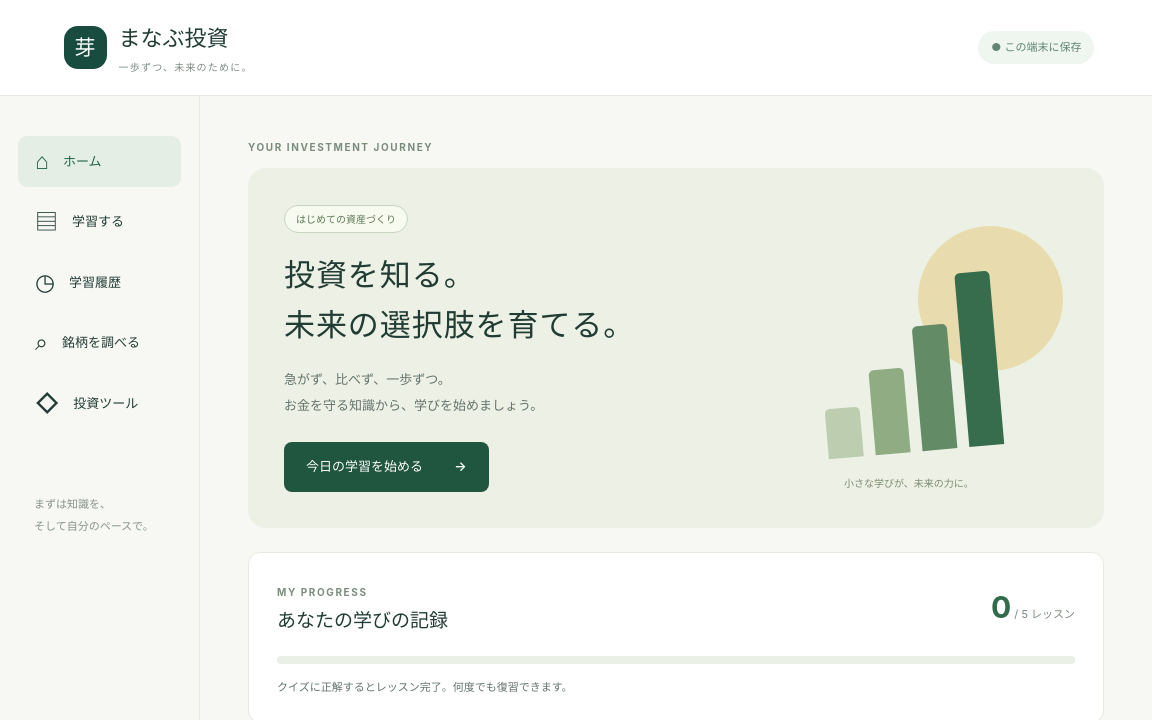
Test: 学習フロー › 保存失敗時は完了扱いにせず、エラーを表示して再試行できる
The image size is (1152, 720).
Click the button "今日の学習を始める →": [386, 467] box [284,442,489,492]
(page scrolled)
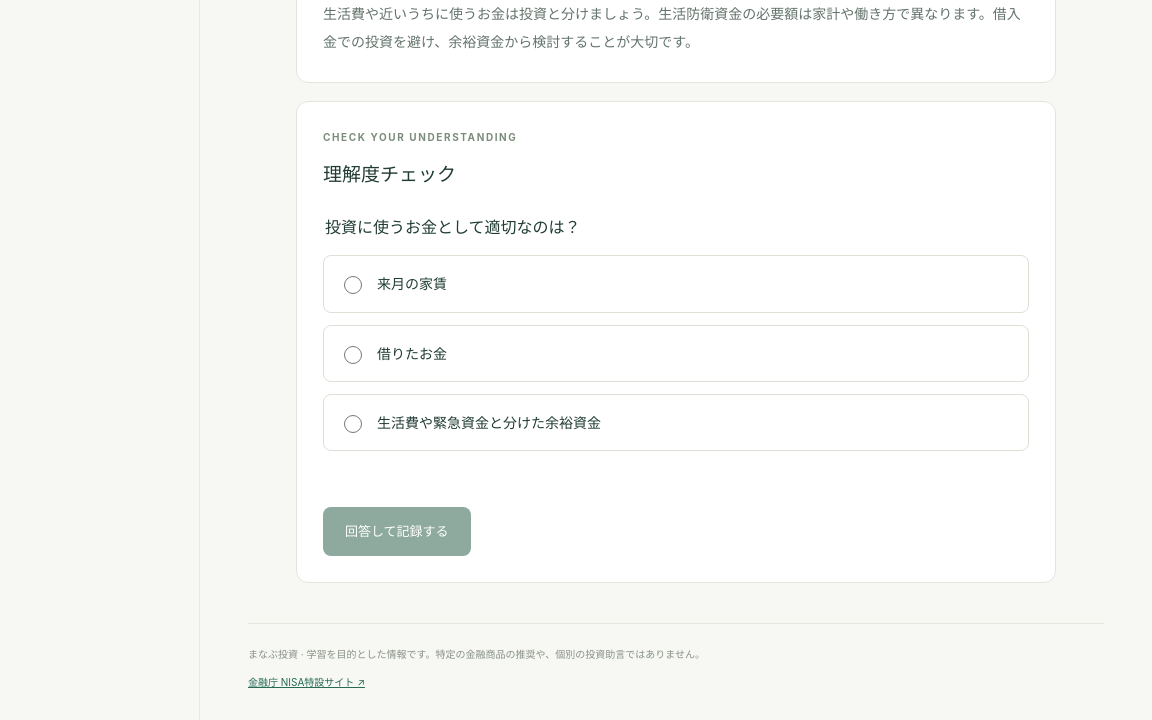
Click the radio button labelled "生活費や緊急資金と分けた余裕資金": [353, 424] box [344,415,362,433]
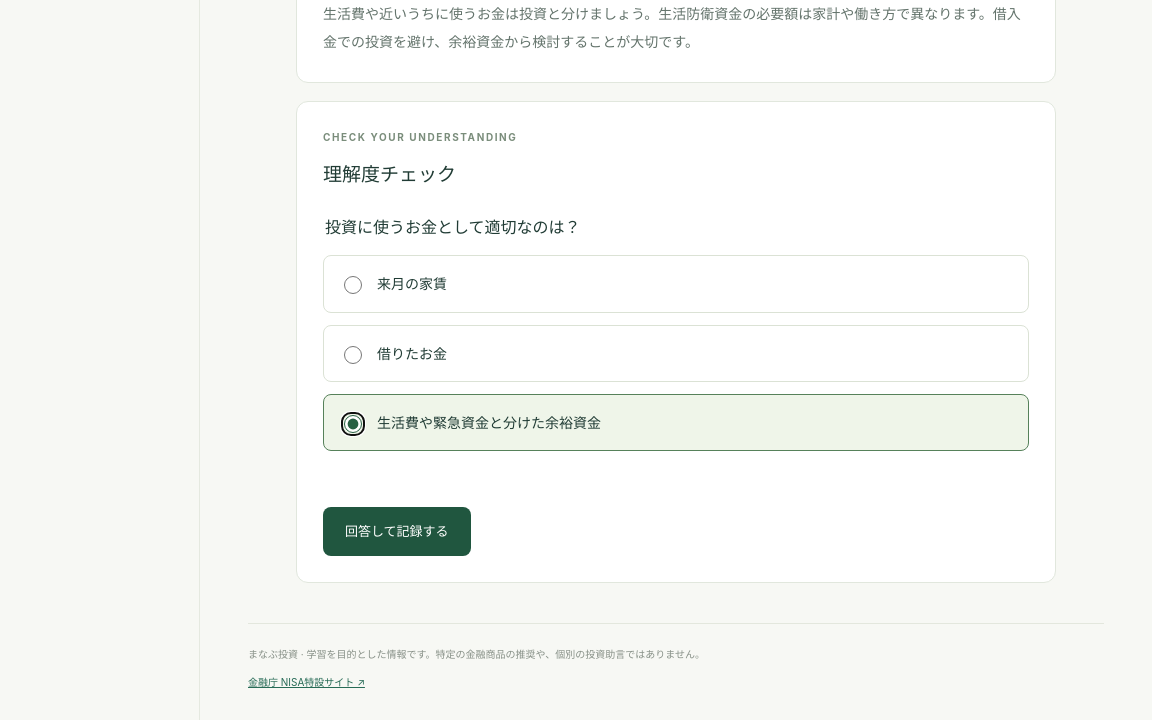
Click the button "回答して記録する": [397, 532] box [323,507,471,556]
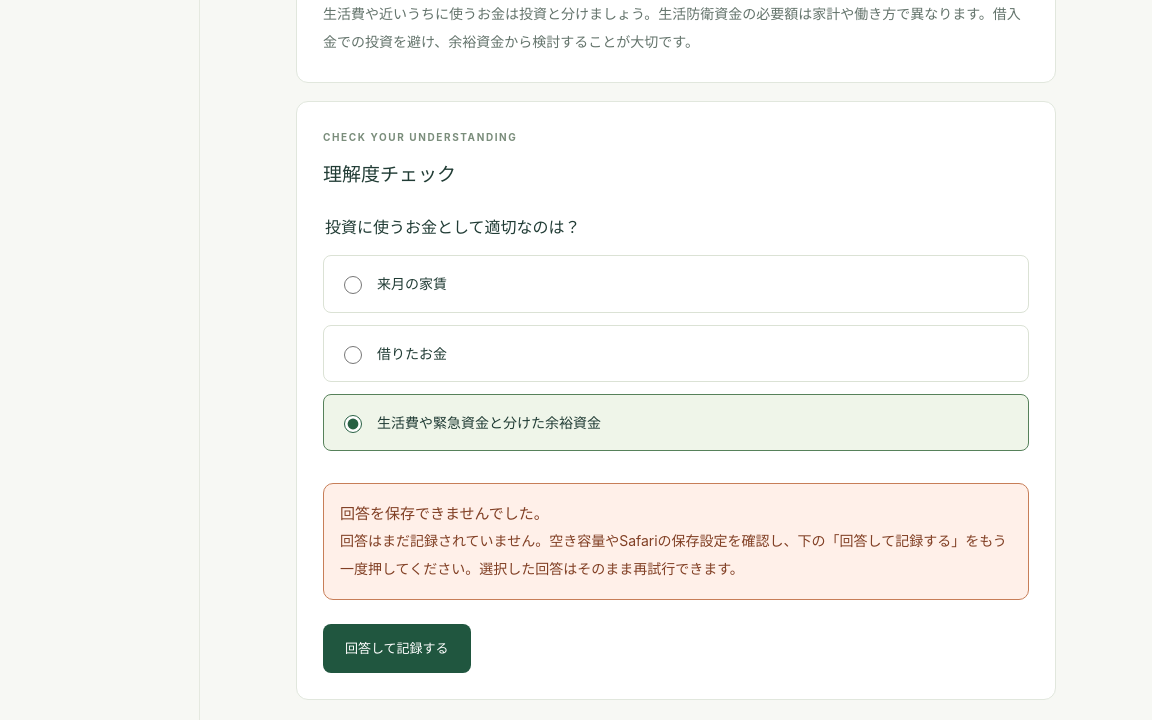
Result: the button "回答して記録する" is enabled at [323,624,471,673]
Result: the message is shown at [323,483,1029,600]
